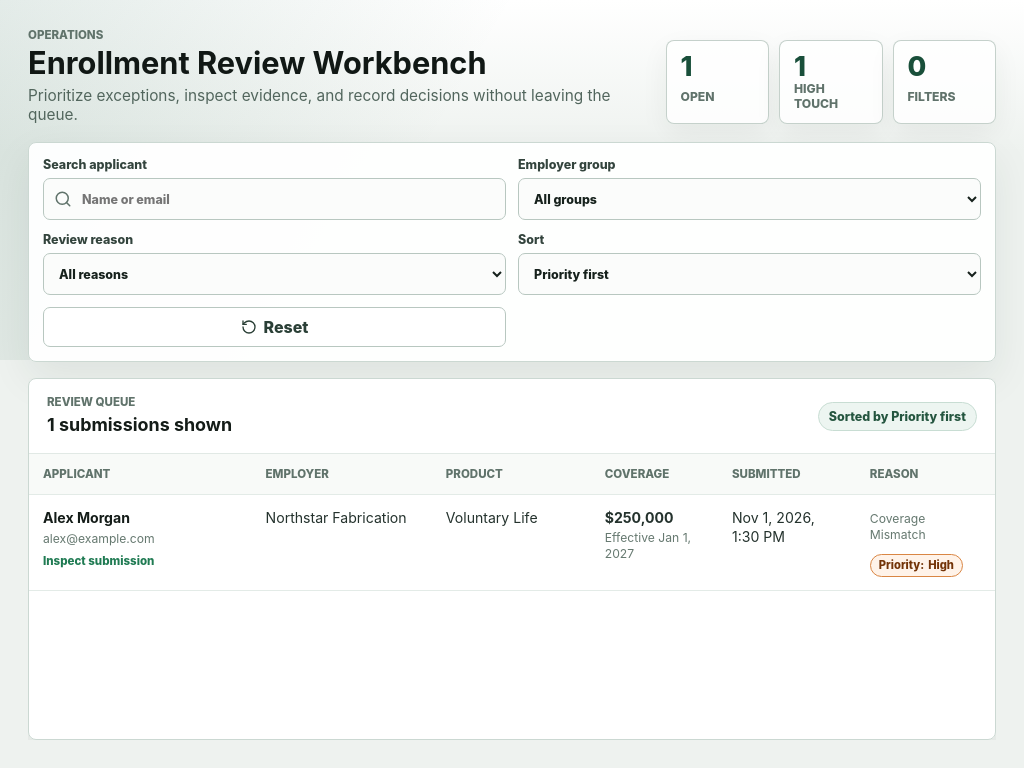
Enrollment Review Workbench › requires a note before returning a submission
Click the button "Alex Morgan alex@example.com Inspect submission".
click(140, 539)  # box left=43, top=508, right=238, bottom=570
(page scrolled)
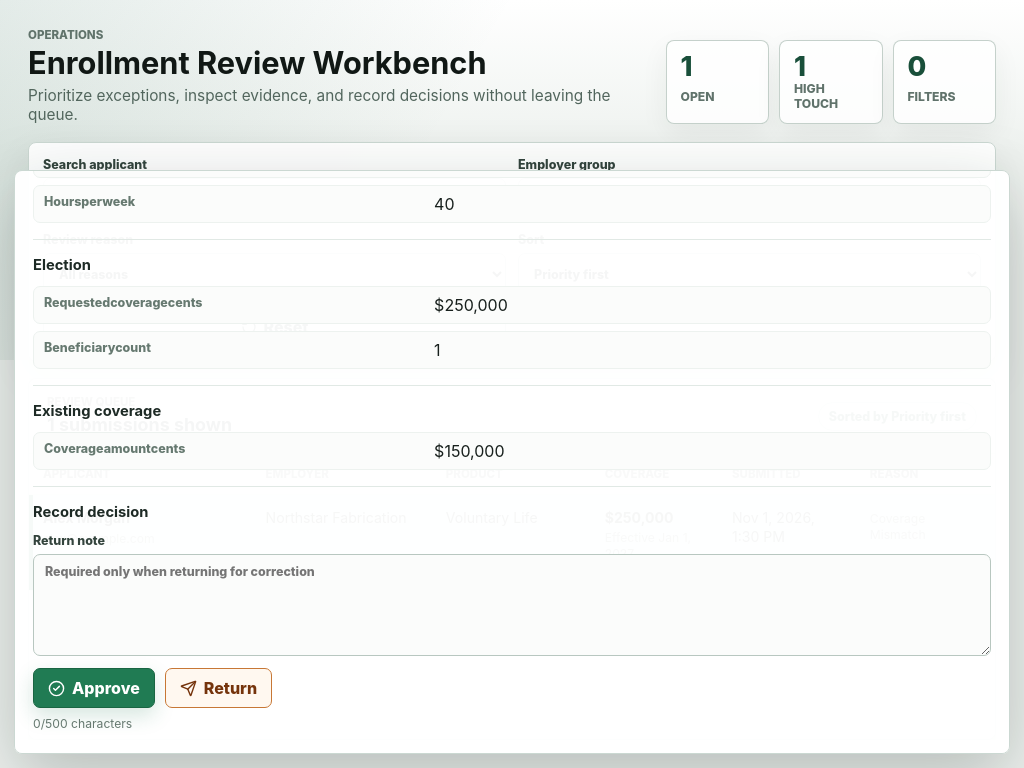
Click the button "Return".
click(218, 688)  # box left=165, top=668, right=272, bottom=708
(page scrolled)
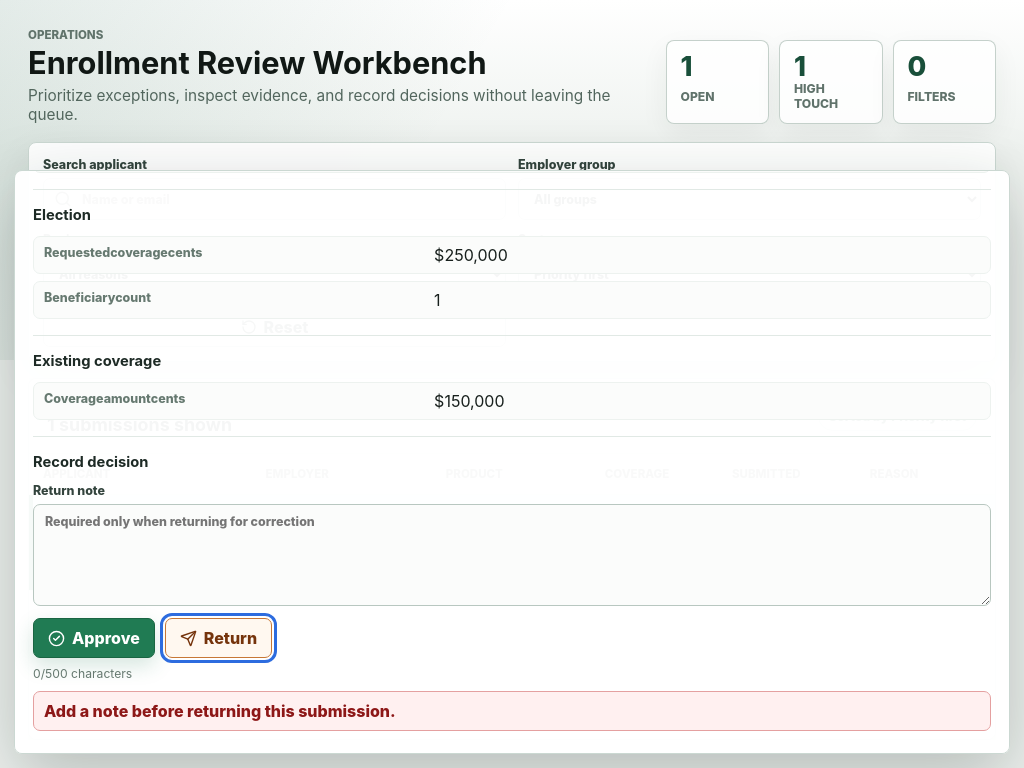
expect the message shows "Add a note": met, box left=44, top=701, right=396, bottom=721
